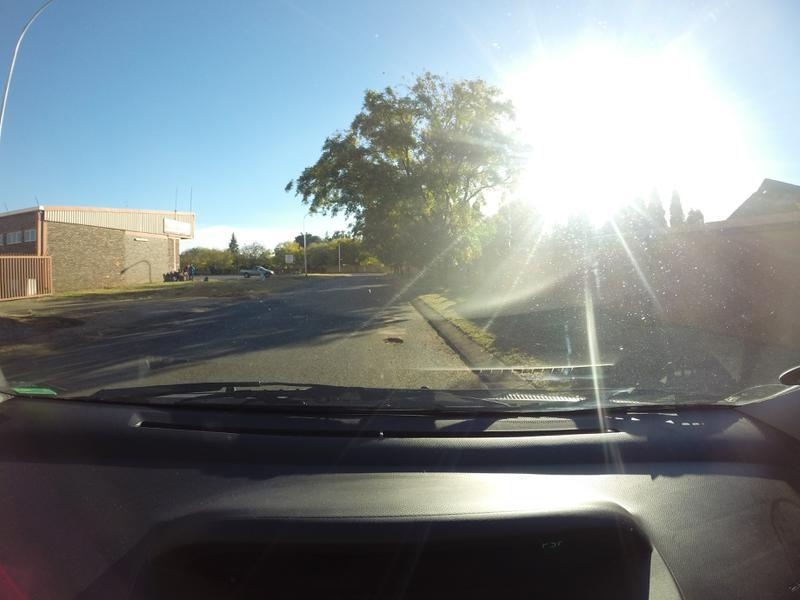pothole: (379, 337, 404, 345)
